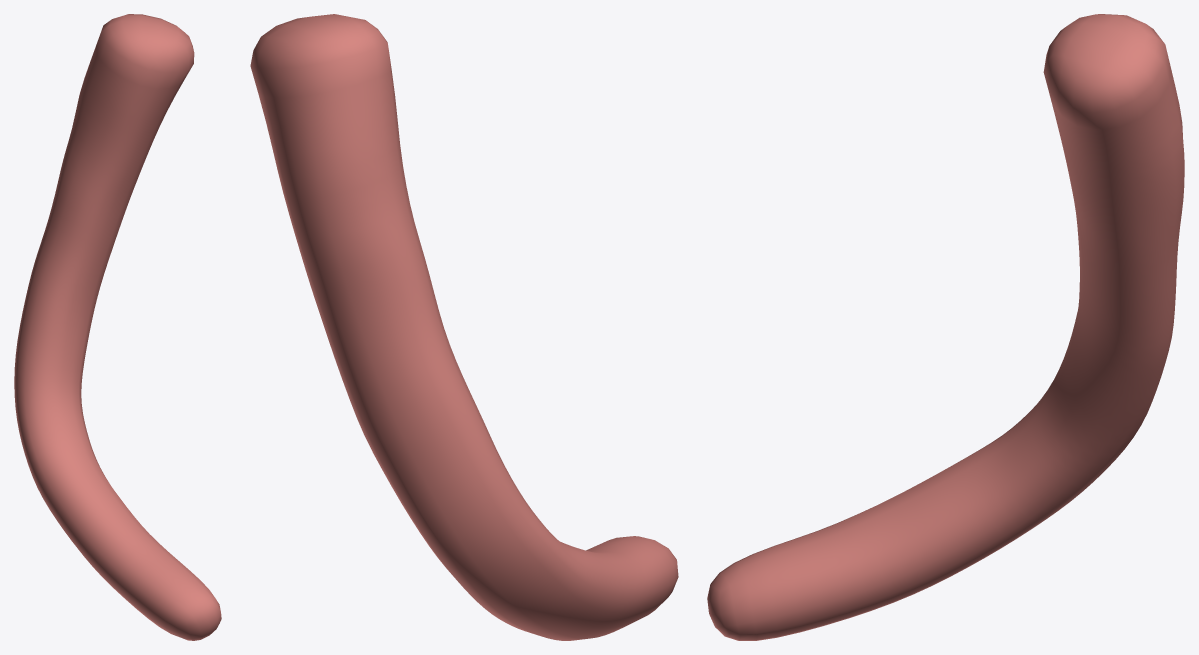
3 views of the same model, side by side, from view 1: azimuth 30°, elevation 25°; view 2: azimuth 150°, elevation 25°; view 3: azimuth 270°, elevation 25° (orthographic). The views are drawn at different scales.
Parts seen in each view (by area): view 1: ZA_cca8fb9004fecf05; view 2: ZA_cca8fb9004fecf05; view 3: ZA_cca8fb9004fecf05.
Part boxes in pixels (x1,y1,x2,y2): ZA_cca8fb9004fecf05: (14,14,221,640); ZA_cca8fb9004fecf05: (250,14,678,640); ZA_cca8fb9004fecf05: (707,14,1184,640).
Size of the model in its own units: 0.0203 by 0.0505 by 0.0328.
